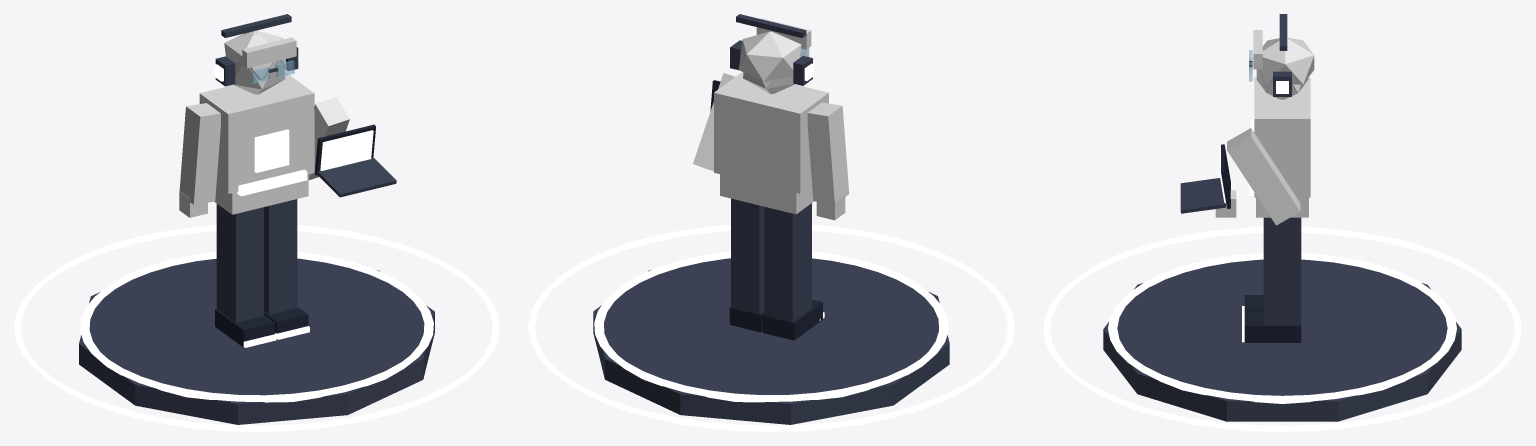
File: about.glb
The picture shows the model from 3 angles, left to right: view 1: azimuth 30°, elevation 25°; view 2: azimuth 150°, elevation 25°; view 3: azimuth 270°, elevation 25°; orthographic projection.
Parts seen in each view (by area): view 1: About_Plinth, Character_Body, About_Halo, Character_Head; view 2: About_Plinth, Character_Body, About_Halo, Character_Head; view 3: About_Plinth, Character_Body, About_Halo, Character_Head.
Part boxes in pixels (x1,y1,x2,y2): About_Plinth: (79,251,434,424); Character_Body: (179,72,396,347); About_Halo: (14,225,499,431); Character_Head: (214,14,299,94); About_Plinth: (593,251,949,424); Character_Body: (693,72,849,340); About_Halo: (528,224,1014,431); Character_Head: (729,14,813,93); About_Plinth: (1103,253,1461,421); Character_Body: (1180,77,1310,342); About_Halo: (1043,227,1521,431); Character_Head: (1249,14,1314,99).
Size of the model in its own units: 2.54 by 1.87 by 2.54.
